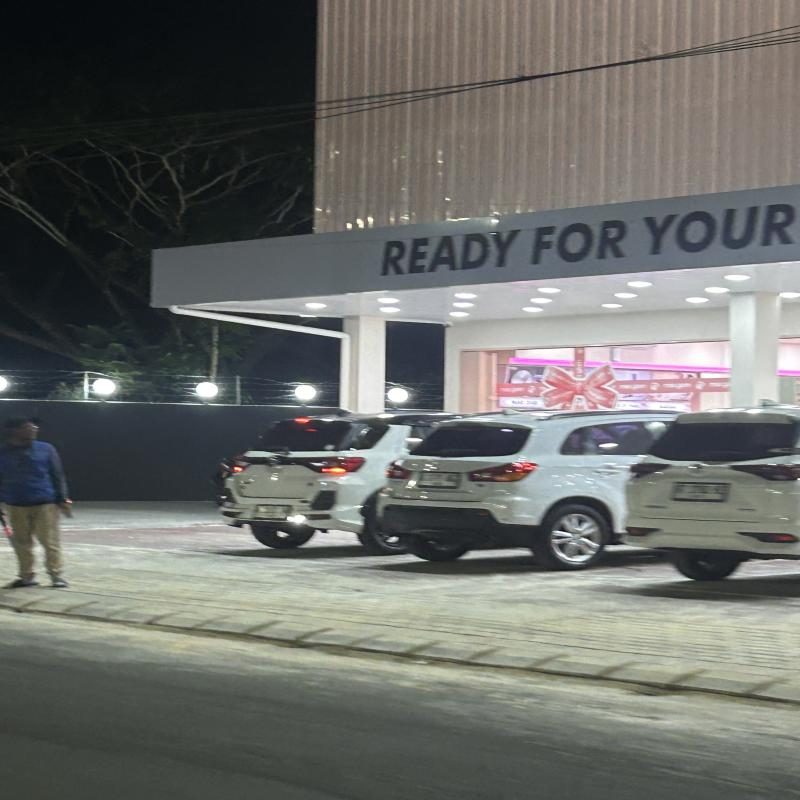license plate on a car: (672, 481, 738, 500), (417, 469, 463, 494), (251, 503, 298, 523)
